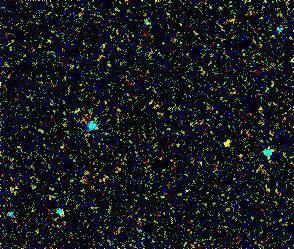star: (215, 129, 245, 159)
